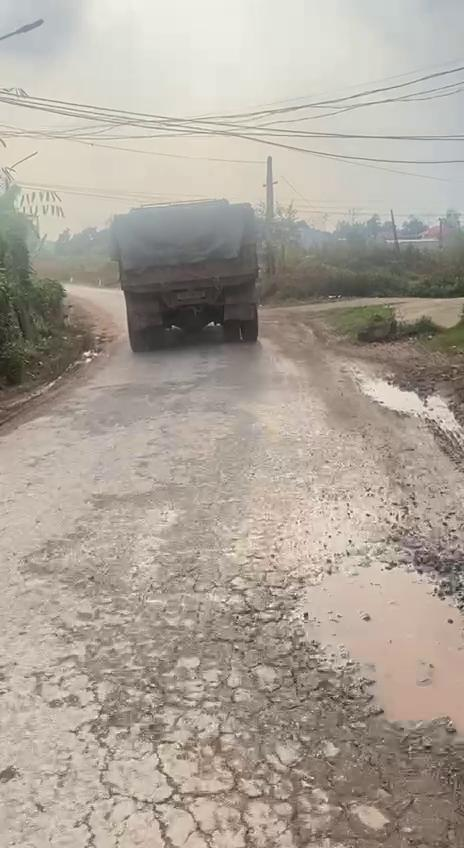pothole: (281, 540, 464, 745)
